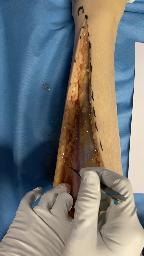scalpel: (69, 166, 127, 206)
